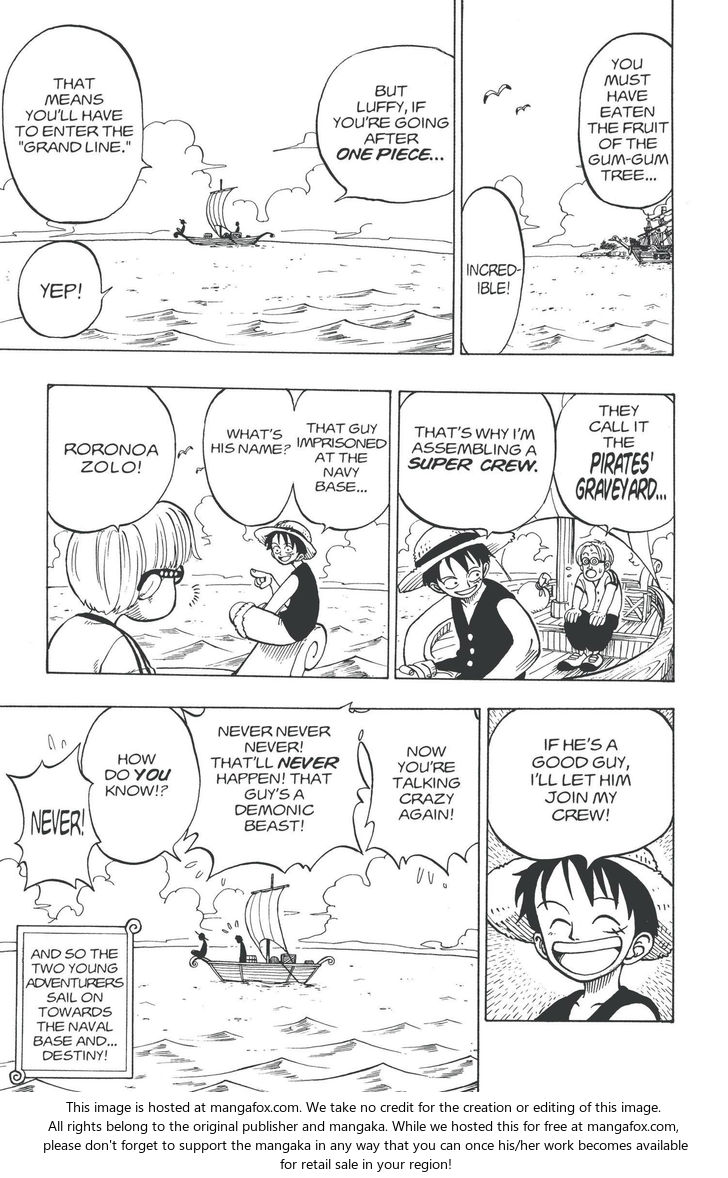bubble: (183, 703, 368, 880), (486, 707, 675, 869), (1, 25, 151, 226), (398, 391, 556, 537), (316, 45, 454, 202), (362, 708, 479, 875), (48, 384, 177, 531), (82, 706, 199, 864), (552, 394, 675, 534), (579, 32, 673, 210), (20, 929, 130, 1076), (293, 388, 391, 534), (7, 743, 100, 891), (204, 388, 295, 525), (461, 187, 525, 355), (19, 241, 113, 339)
